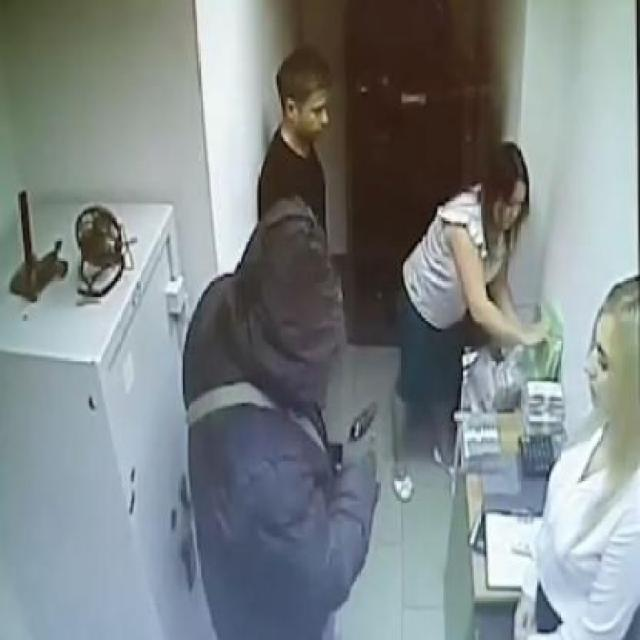weapon: (344, 399, 386, 459)
